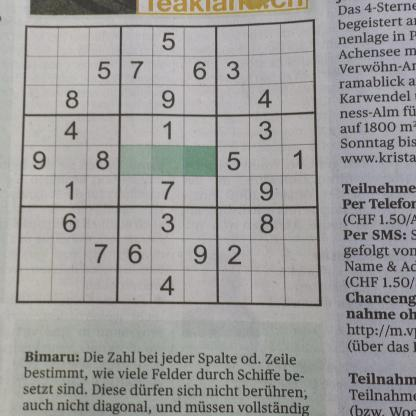sudoku: (12, 14, 326, 312)
